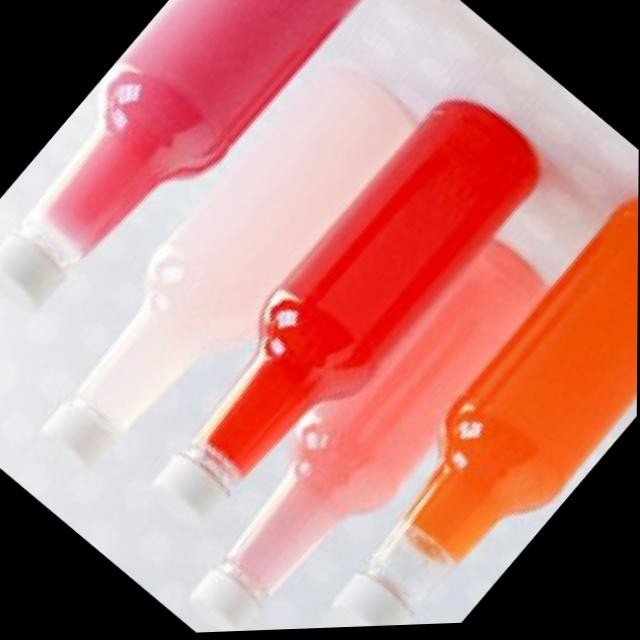glass_beverage_bottles: (159, 77, 560, 514), (47, 41, 433, 465), (201, 217, 567, 623), (335, 186, 639, 630), (6, 0, 403, 300)
